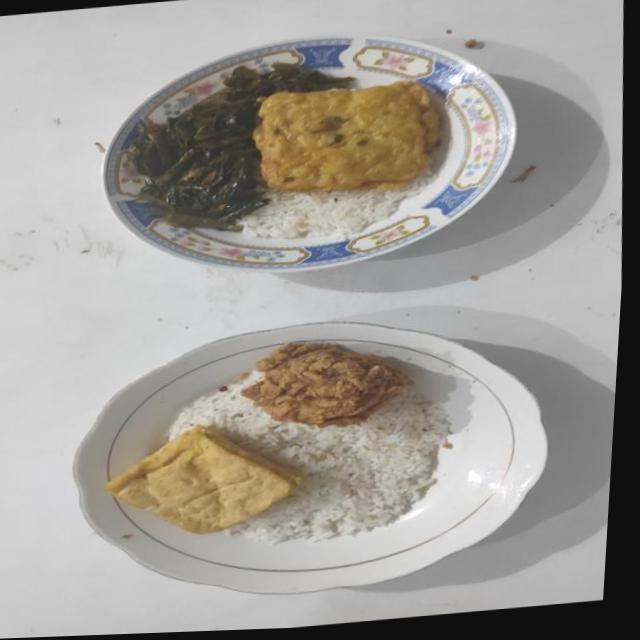nasi_putih: (169, 372, 451, 544), (238, 167, 436, 242)
tahu_goreng: (105, 426, 302, 534)
tumis_kangkung: (125, 64, 354, 232)
